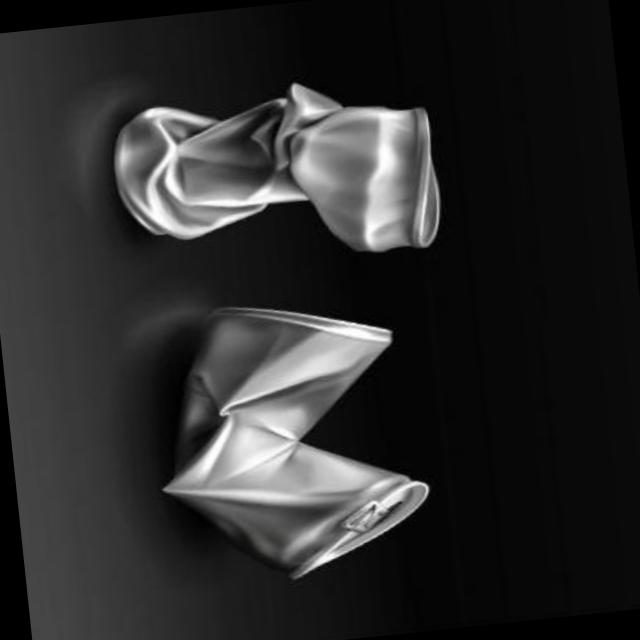metal: (167, 308, 431, 579), (117, 85, 442, 251)
